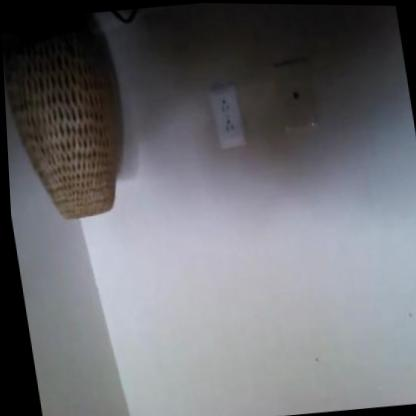OUTLET: (208, 82, 248, 151)
